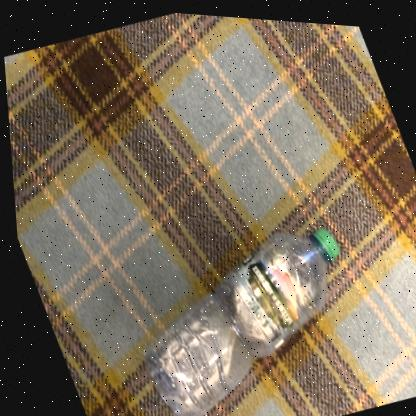Plastic: (138, 224, 335, 416)
